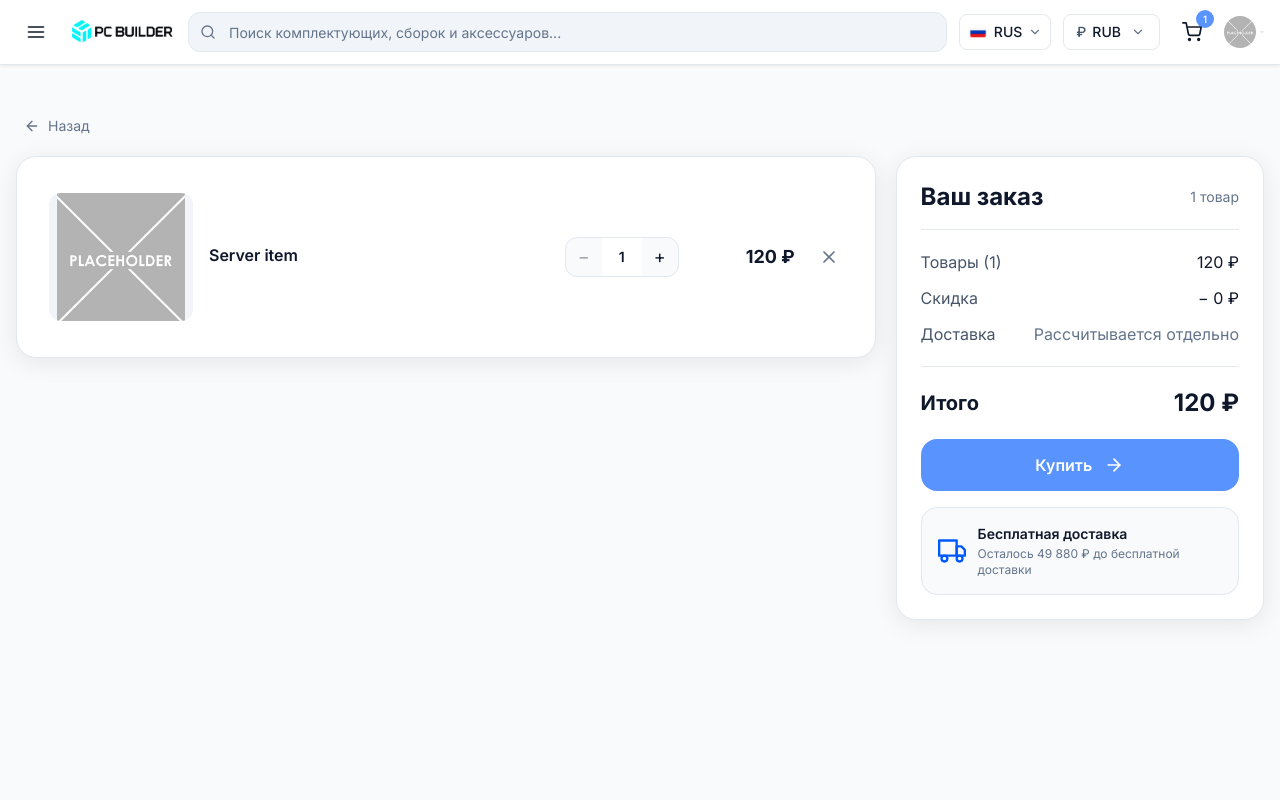
Scenario: server cart › does not display checkout success when the server rejects the order
Expected: the heading "Server item" is shown, [209,245,298,265]
Click the button "Купить".
click(1080, 465)  # box [921,439,1239,491]
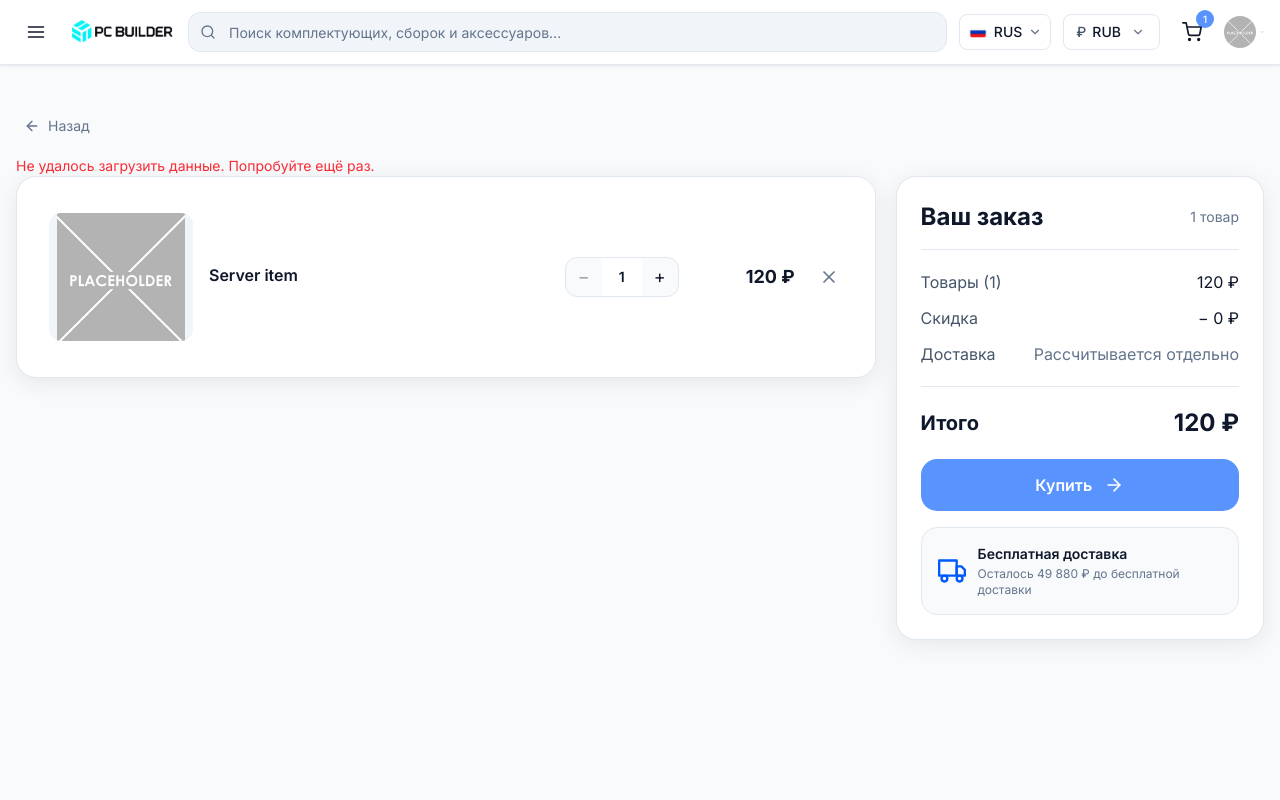
Now the message "Не удалось загрузить данные. Попробуйте ещё раз." is shown, box [16,157,375,174]
